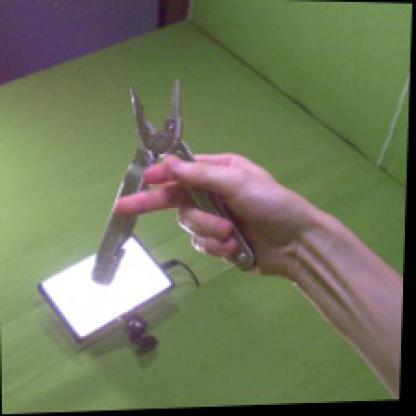Hand: (115, 151, 305, 276)
